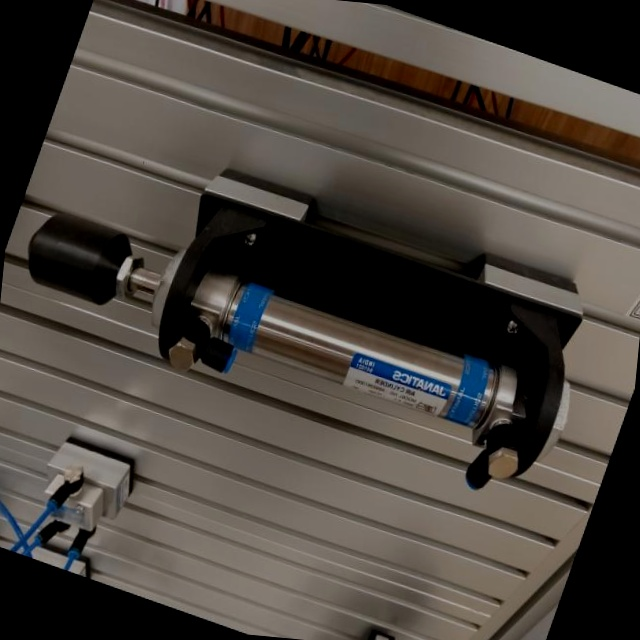double acting pneumatic cylinder: (0, 88, 629, 523)
